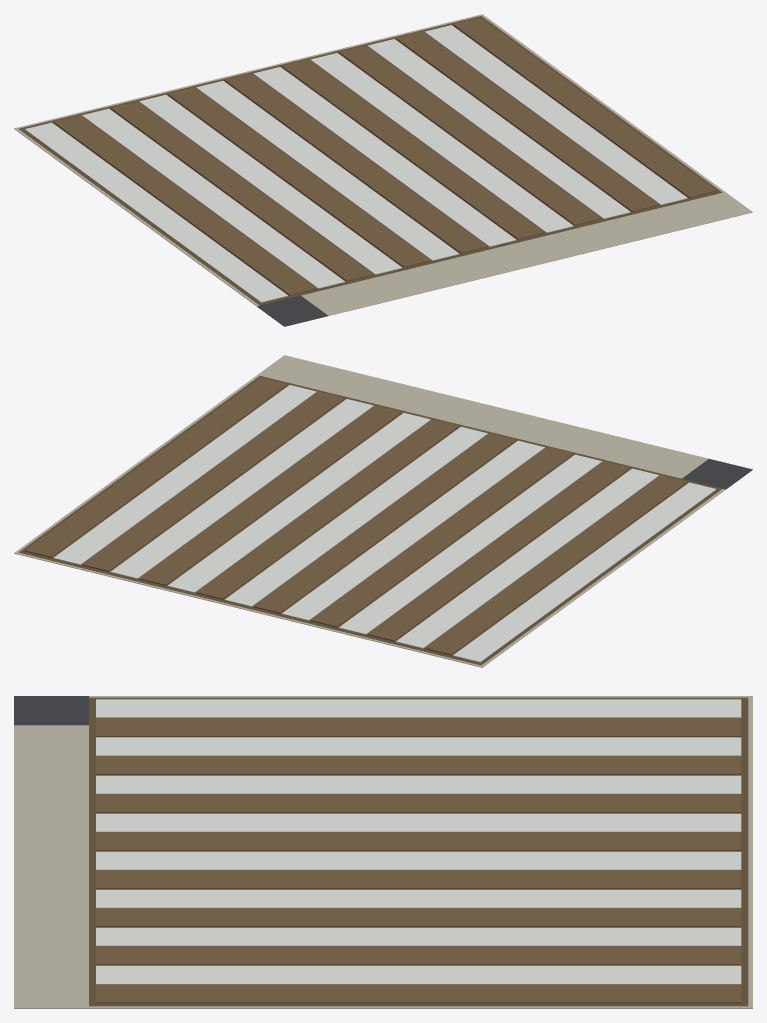
Rendered from site_field_bare.glb.
3 views of the same model, one above another, from view 1: azimuth 30°, elevation 25°; view 2: azimuth 150°, elevation 25°; view 3: azimuth 270°, elevation 25° (orthographic). The views are drawn at different scales.
Visible parts, largest first — view 1: site_field_bare; view 2: site_field_bare; view 3: site_field_bare.
Part boxes in pixels (x1=…): site_field_bare: x1=14, y1=14, x2=752, y2=326; site_field_bare: x1=14, y1=355, x2=752, y2=667; site_field_bare: x1=14, y1=696, x2=752, y2=1008.
Size of the model in its own units: 64 by 0.22 by 64.
